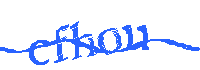c: (28, 37, 52, 68)
f: (52, 21, 70, 66)
h: (70, 22, 95, 59)
o: (97, 27, 124, 55)
u: (122, 23, 151, 52)
